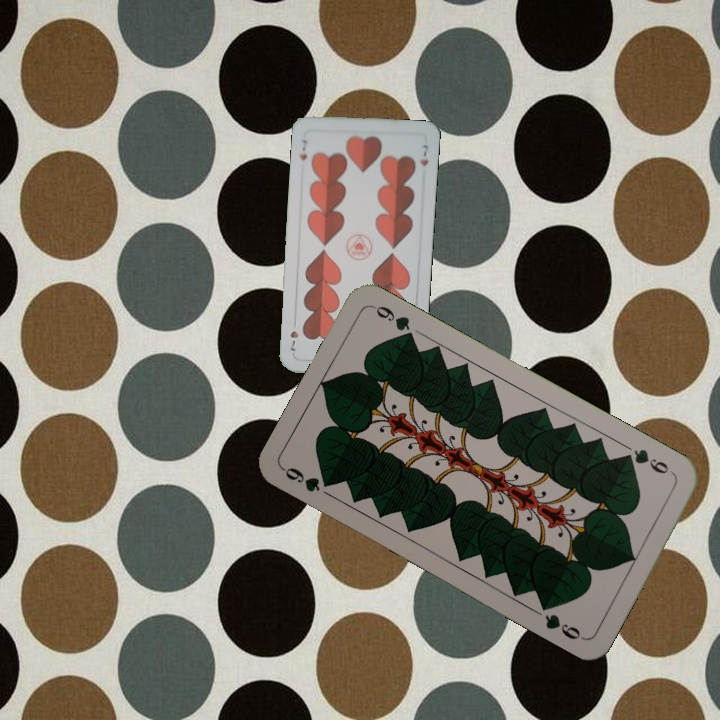G9: (279, 463, 335, 495), (619, 445, 672, 477)
H7: (295, 136, 309, 163)
